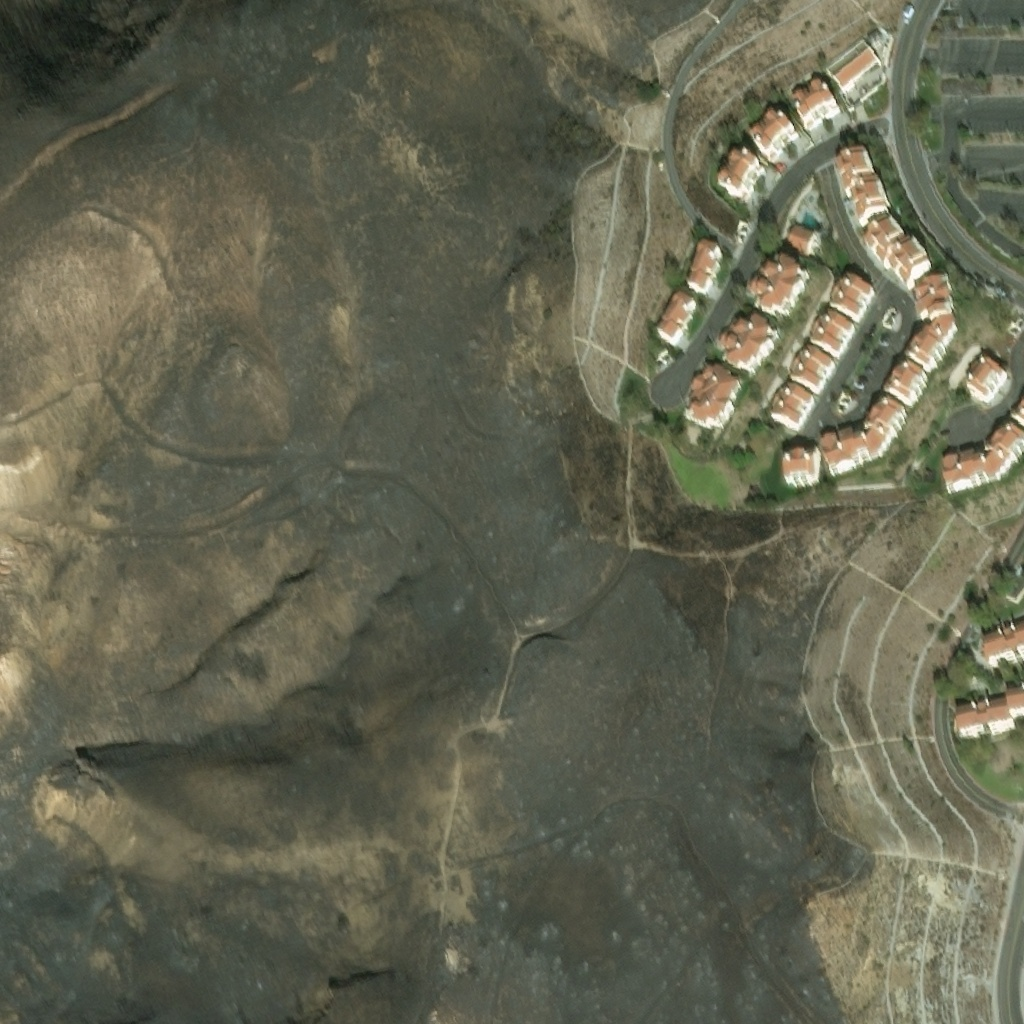0 no-damage: (819, 397, 907, 474), (940, 423, 1023, 494), (902, 276, 957, 372), (863, 215, 932, 285), (835, 149, 890, 220), (717, 313, 773, 375), (687, 363, 741, 427), (955, 688, 1023, 737), (750, 255, 804, 315), (823, 35, 879, 87), (748, 108, 798, 160), (828, 265, 877, 318), (789, 73, 839, 124), (716, 144, 762, 198), (768, 379, 816, 428), (807, 306, 855, 354), (789, 342, 834, 391), (883, 359, 927, 406), (682, 236, 721, 289), (656, 288, 696, 338), (963, 355, 1004, 398), (981, 624, 1023, 664), (783, 448, 819, 482), (782, 217, 814, 251), (1010, 405, 1023, 427)
